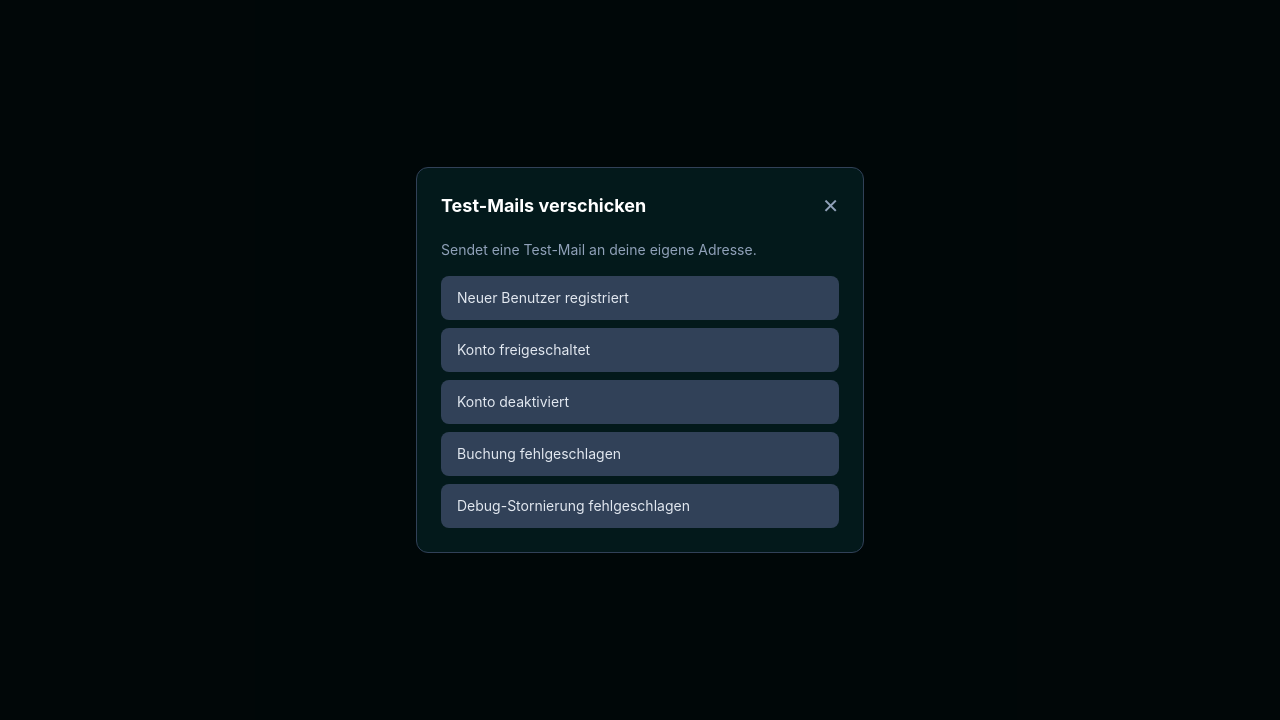
Test: TestEmailModal › disables all buttons while sending is in progress
Click the button "Buchung fehlgeschlagen" at (539,454), box [441,432,839,476]
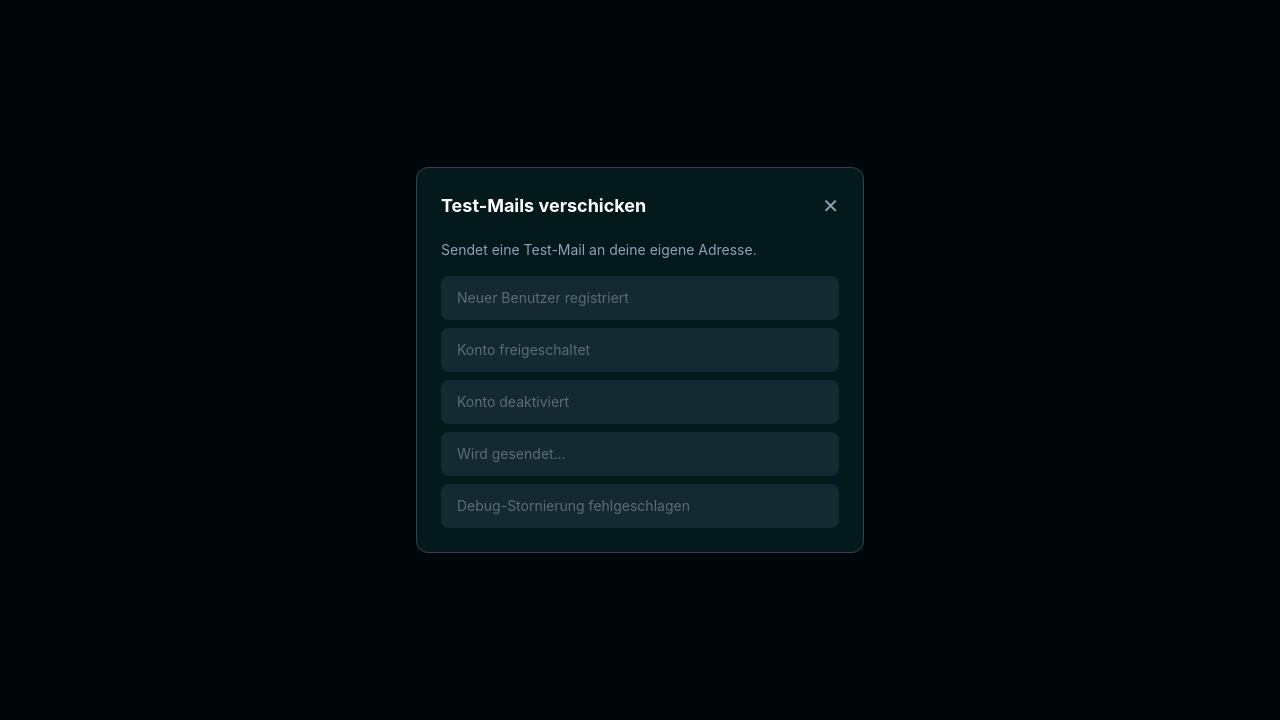
Now the button "Neuer Benutzer registriert" is disabled, box [441,276,839,320]
Now the button "Konto freigeschaltet" is disabled, box [441,328,839,372]
Now the button "Konto deaktiviert" is disabled, box [441,380,839,424]
